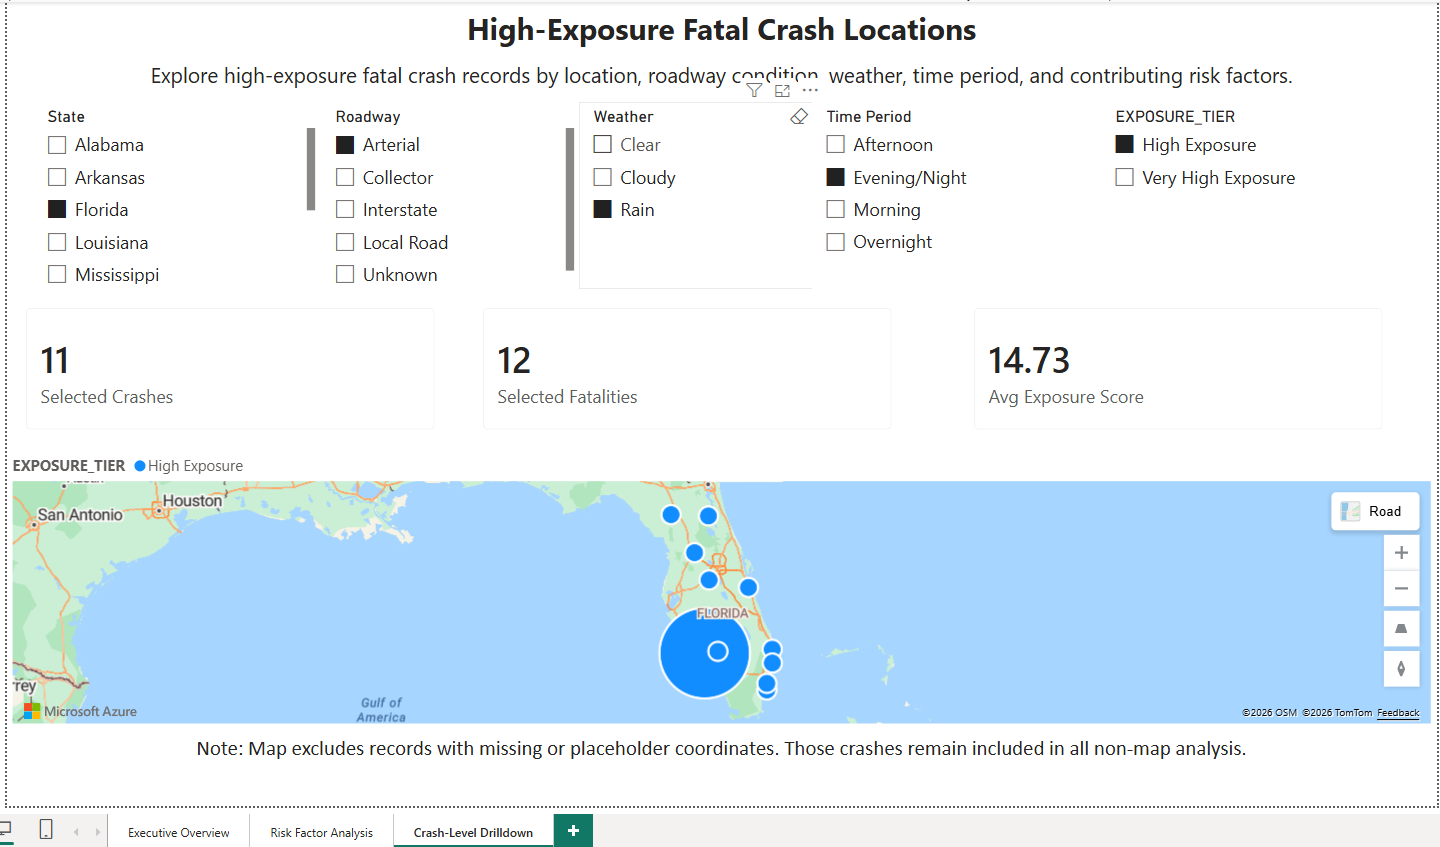

What the dashboard file says about the page in this screenshot:
{"tool":"powerbi","page":{"name":"Crash-Level Drilldown","canvas":[1280,720],"ordinal":2},"visuals":[{"type":"textbox","box":[0,0,1279.6,47],"z":0},{"type":"textbox","box":[0,47,1279.6,42.2],"z":1000},{"type":"azureMap","title":"Fatal Crash Locations by Exposure Tier","fields":{"X":["risk vw_insurance_exposure_score.LONGITUD_CLEAN"],"Y":["risk vw_insurance_exposure_score.LATITUDE_CLEAN"],"Size":["Sum(risk vw_insurance_exposure_score.FATALS)"],"Series":["risk vw_insurance_exposure_score.EXPOSURE_TIER"]},"box":[0,376.3,1279.6,275],"z":2000},{"type":"slicer","fields":{"Values":["risk vw_insurance_exposure_score.ROADWAY_GROUP"]},"box":[281,89.2,231.6,167.6],"z":3000},{"type":"slicer","fields":{"Values":["risk vw_insurance_exposure_score.WEATHER_GROUP"]},"box":[512.6,89.2,218.3,167.6],"z":4000},{"type":"slicer","fields":{"Values":["risk vw_insurance_exposure_score.TIME_PERIOD"]},"box":[721.2,89.2,254.5,167.6],"z":5000},{"type":"cardVisual","fields":{"Data":["risk vw_insurance_exposure_score.Selected Crashes"]},"box":[0,256.9,400.4,143.5],"z":6000},{"type":"cardVisual","fields":{"Data":["risk vw_insurance_exposure_score.Selected Fatalities"]},"box":[408.8,256.9,400.4,143.5],"z":7000},{"type":"cardVisual","fields":{"Data":["risk vw_insurance_exposure_score.Avg Exposure Score"]},"box":[849,256.9,400.4,143.5],"z":8000},{"type":"slicer","fields":{"Values":["risk vw_insurance_exposure_score.STATENAME"]},"box":[22.9,89.2,258.1,167.6],"z":9000},{"type":"textbox","box":[0,651.3,1279.6,68.7],"z":10000},{"type":"slicer","fields":{"Values":["risk vw_insurance_exposure_score.EXPOSURE_TIER"]},"box":[979.3,89.2,287,167.6],"z":11000}]}

Visuals, with their boxes on the page's 1280x720 design canvas (x1, y1, x2, y2). These are canvas units, not pixel positions in the 1440x847 screenshot, which may show the page scaled, cropped or inside an application window:
textbox: bbox(0, 0, 1280, 47)
textbox: bbox(0, 47, 1280, 89)
"Fatal Crash Locations by Exposure Tier" azureMap: bbox(0, 376, 1280, 651)
slicer - risk vw_insurance_exposure_score.ROADWAY_GROUP: bbox(281, 89, 513, 257)
slicer - risk vw_insurance_exposure_score.WEATHER_GROUP: bbox(513, 89, 731, 257)
slicer - risk vw_insurance_exposure_score.TIME_PERIOD: bbox(721, 89, 976, 257)
cardVisual - risk vw_insurance_exposure_score.Selected Crashes: bbox(0, 257, 400, 400)
cardVisual - risk vw_insurance_exposure_score.Selected Fatalities: bbox(409, 257, 809, 400)
cardVisual - risk vw_insurance_exposure_score.Avg Exposure Score: bbox(849, 257, 1249, 400)
slicer - risk vw_insurance_exposure_score.STATENAME: bbox(23, 89, 281, 257)
textbox: bbox(0, 651, 1280, 720)
slicer - risk vw_insurance_exposure_score.EXPOSURE_TIER: bbox(979, 89, 1266, 257)
